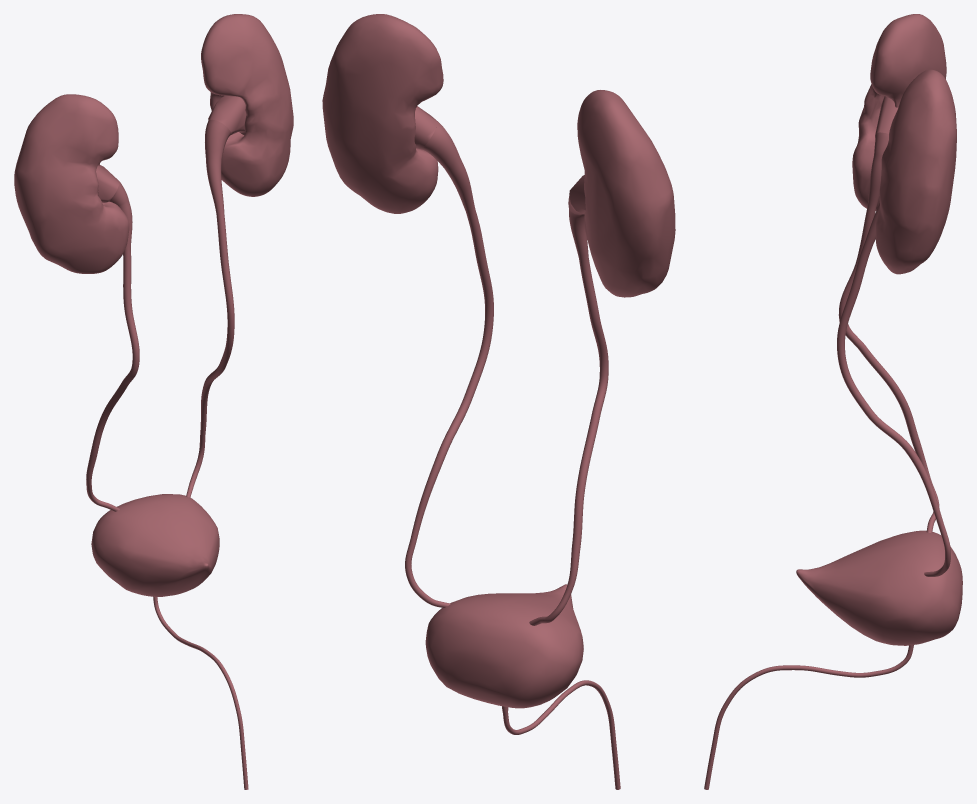
The model's file is male-urinary.glb.
3 views of the same model, side by side, from view 1: azimuth 30°, elevation 25°; view 2: azimuth 150°, elevation 25°; view 3: azimuth 270°, elevation 25° (orthographic). The views are drawn at different scales.
Parts seen in each view (by area): view 1: Kidneyr, Kidneyl, Urinary_bladder, Ureterl, Ureterr, Urethra, Renal_pelvisl, Renal_pelvisr; view 2: Kidneyl, Kidneyr, Urinary_bladder, Ureterl, Ureterr, Urethra, Renal_pelvisl; view 3: Urinary_bladder, Kidneyl, Kidneyr, Ureterl, Ureterr, Urethra, Renal_pelvisr.
Boxes of the visible parts, left/top/right/bottom form: Kidneyr: left=14, top=94, right=129, bottom=273; Kidneyl: left=201, top=14, right=293, bottom=196; Urinary_bladder: left=91, top=494, right=219, bottom=596; Ureterl: left=186, top=119, right=234, bottom=497; Ureterr: left=86, top=181, right=139, bottom=511; Urethra: left=153, top=597, right=248, bottom=789; Renal_pelvisl: left=208, top=96, right=246, bottom=134; Renal_pelvisr: left=96, top=165, right=119, bottom=202; Kidneyl: left=322, top=14, right=443, bottom=213; Kidneyr: left=577, top=90, right=675, bottom=297; Urinary_bladder: left=425, top=584, right=583, bottom=708; Ureterl: left=405, top=122, right=493, bottom=607; Ureterr: left=529, top=196, right=608, bottom=625; Urethra: left=502, top=680, right=620, bottom=789; Renal_pelvisl: left=414, top=106, right=438, bottom=149; Urinary_bladder: left=796, top=530, right=962, bottom=645; Kidneyl: left=875, top=69, right=956, bottom=274; Kidneyr: left=852, top=14, right=946, bottom=210; Ureterl: left=837, top=203, right=950, bottom=576; Ureterr: left=838, top=132, right=939, bottom=532; Urethra: left=704, top=645, right=913, bottom=789; Renal_pelvisr: left=875, top=96, right=898, bottom=135.
Bounding box in the file's own units: 0.5691 × 1.34 × 0.4134.
